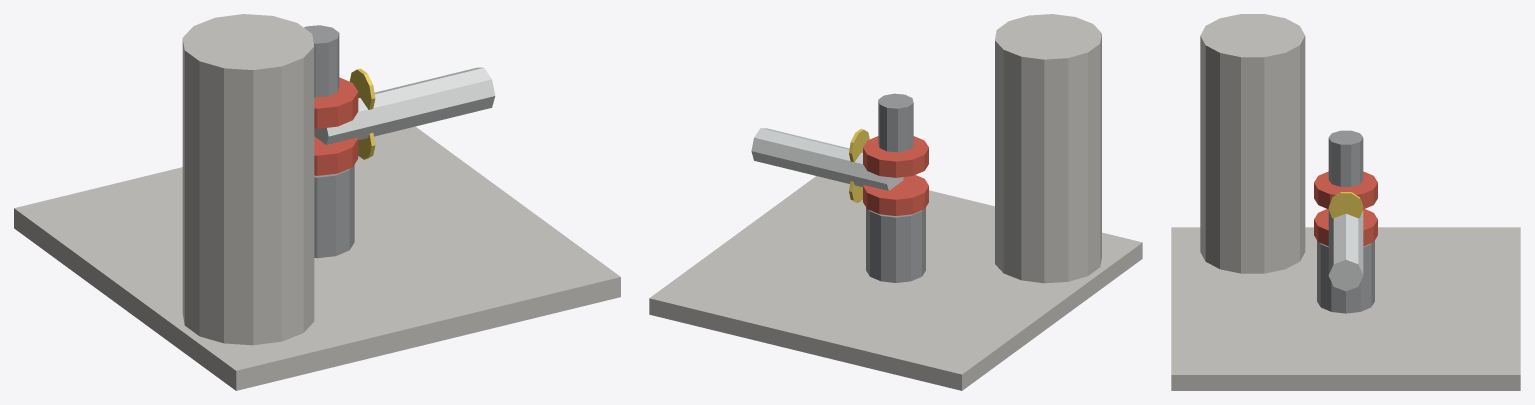
Rendered from Wellhead.glb.
3 views of the same model, side by side, from view 1: azimuth 30°, elevation 25°; view 2: azimuth 150°, elevation 25°; view 3: azimuth 270°, elevation 25° (orthographic). The views are drawn at different scales.
Visible parts, largest first — view 1: Well pad, Silencer, Member.016, Casing, Master valve, Valve.001, Valve, Wheel.001; view 2: Well pad, Silencer, Member.016, Casing, Master valve, Valve, Valve.001, Wheel.001; view 3: Well pad, Silencer, Member.016, Casing, Master valve, Valve.001, Valve, Wheel.001.
Part boxes in pixels (x1,y1,x2,y2): Well pad: (14, 126, 620, 390); Silencer: (182, 14, 314, 345); Member.016: (314, 67, 495, 144); Casing: (314, 165, 354, 258); Master valve: (304, 25, 339, 97); Valve.001: (314, 77, 358, 128); Valve: (314, 136, 358, 175); Wheel.001: (349, 68, 375, 109); Well pad: (649, 176, 1142, 390); Silencer: (995, 14, 1101, 283); Member.016: (751, 128, 903, 190); Casing: (866, 207, 925, 282); Master valve: (878, 93, 913, 152); Valve: (863, 175, 928, 215); Valve.001: (863, 136, 928, 177); Wheel.001: (849, 129, 869, 162); Well pad: (1171, 227, 1520, 390); Silencer: (1200, 14, 1305, 273); Member.016: (1328, 210, 1363, 291); Casing: (1317, 240, 1374, 313); Master valve: (1328, 130, 1363, 186); Valve.001: (1314, 171, 1377, 209); Valve: (1314, 209, 1377, 246); Wheel.001: (1328, 192, 1363, 218).
Bounding box in the file's own units: 6 × 4.4 × 6.
